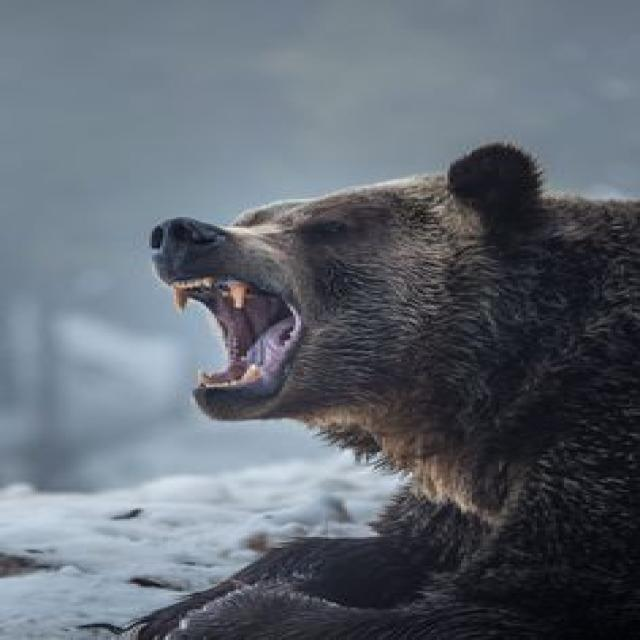Carnivorous: (133, 145, 640, 640)
